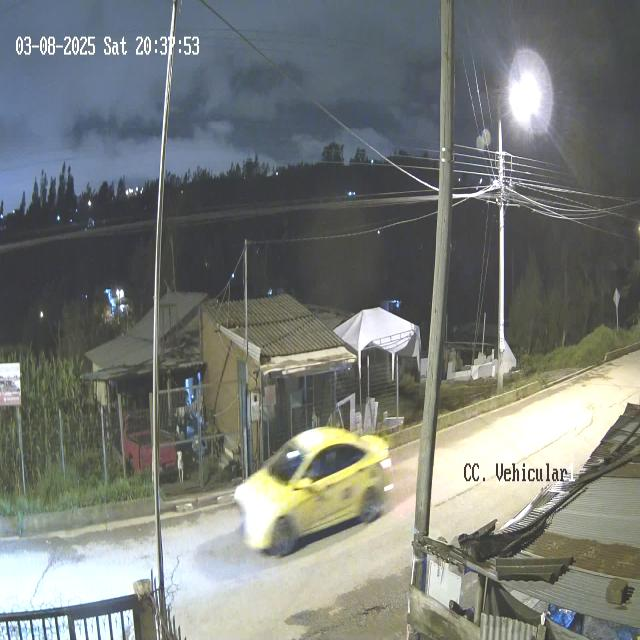SED: (237, 423, 395, 560)
